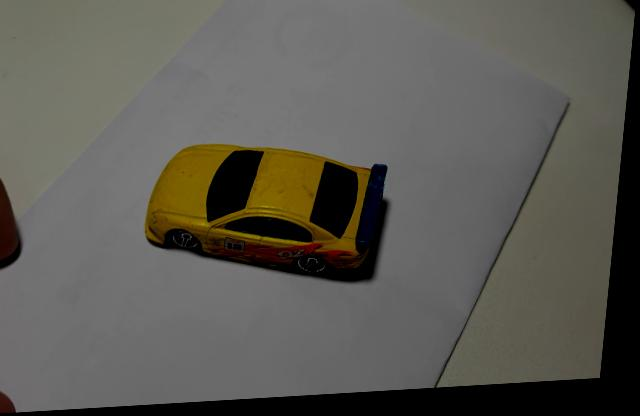02_OZSOME: (149, 147, 392, 287)
